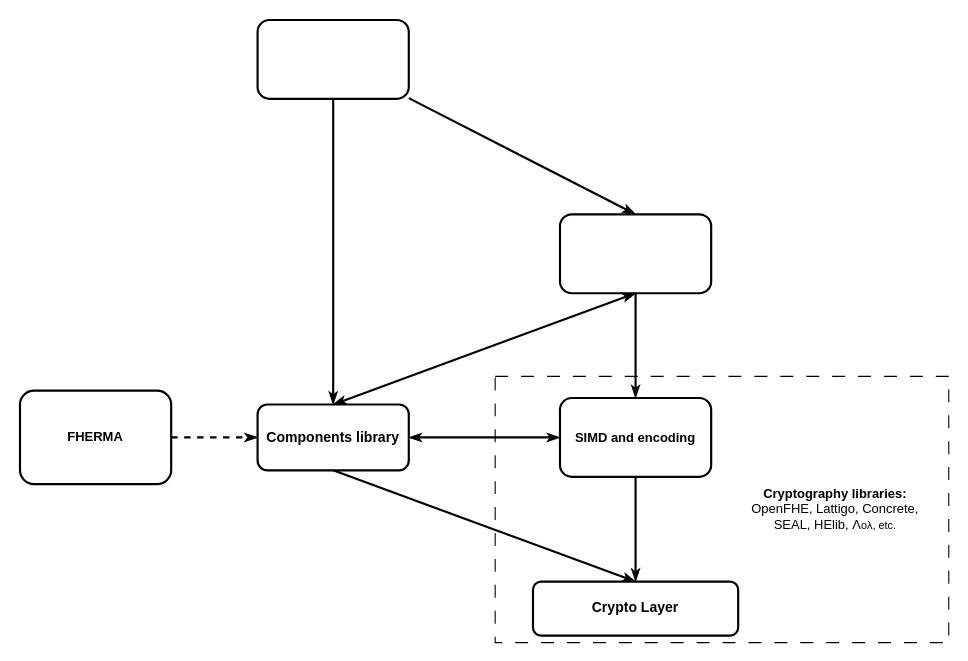
Image size: 968x661. Some labels were removed from this diagram. The centre of each missing label's shape, as x and y in pixels:
Toolkits: pixel 635 253
User-defined application logic: pixel 332 58
